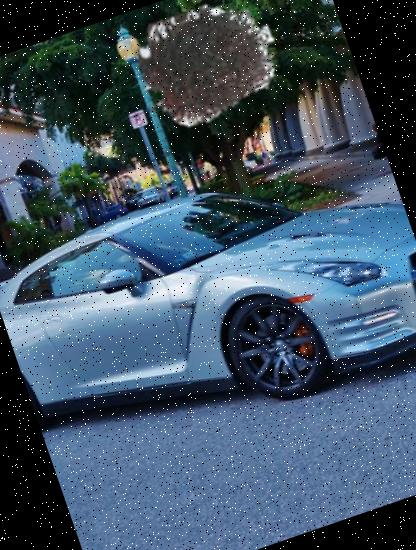Rambutan: (112, 0, 299, 156)
